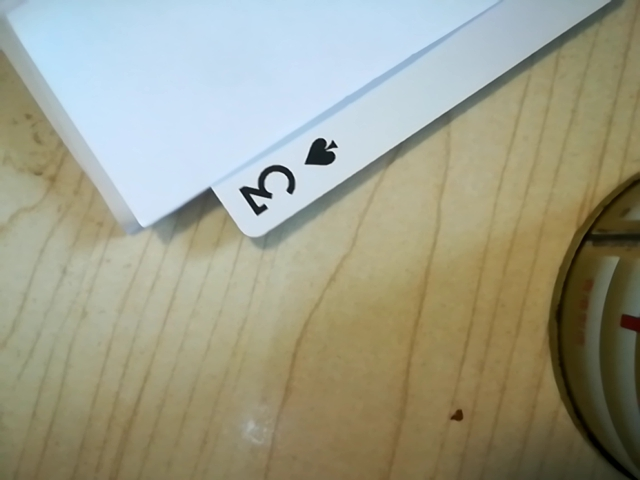ht 3: (226, 129, 350, 230)
